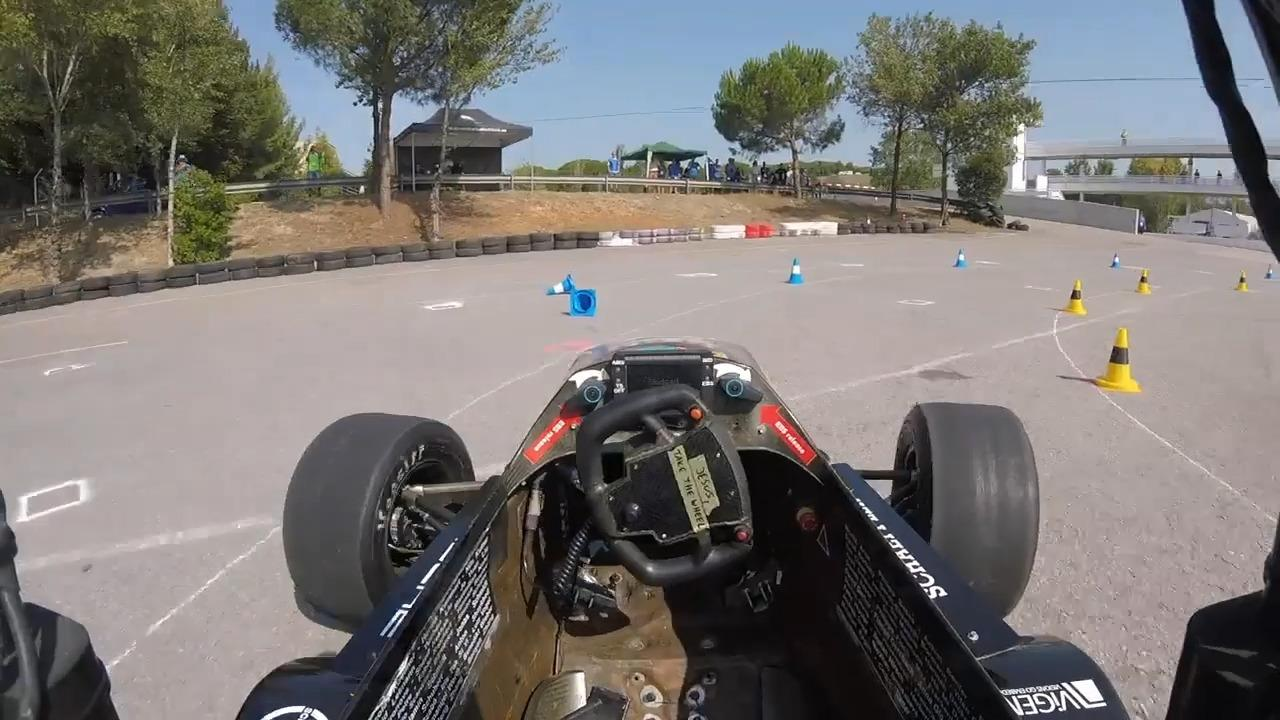blue_cone: (569, 289, 602, 318), (789, 255, 811, 288), (546, 275, 579, 297), (952, 247, 972, 272), (1109, 253, 1126, 271), (1266, 265, 1275, 279)
yellow_cone: (1093, 334, 1144, 391), (1064, 283, 1089, 319), (1137, 266, 1156, 295), (1237, 273, 1249, 293)
